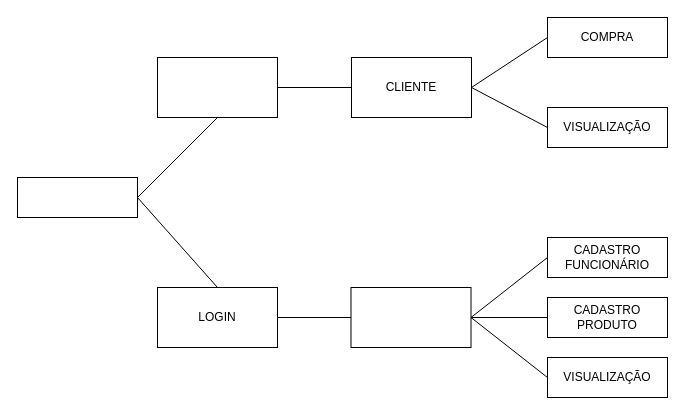
This 685x415 diagram has some shape labels left out. The shapes that lost their labels are listed below. From the top down, each one's centre as x and y in pixels, then its label:
point (217, 87): CADASTRO
point (77, 197): HOME
point (410, 317): ADMINISTRADOR
